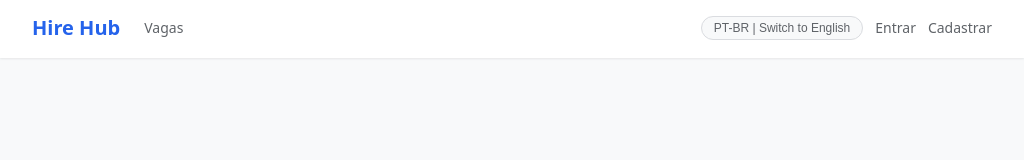
Test: Header › toggles language on button click
Click the button "PT-BR | Switch to English" at (782, 28), box [701,16,863,40]
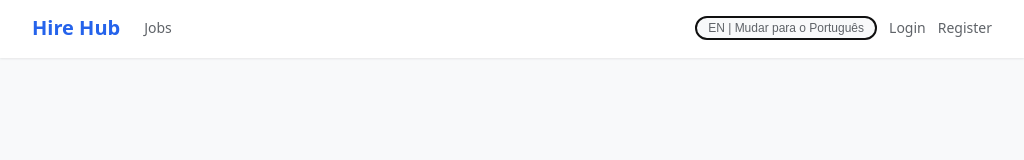
expect the button "EN | Mudar para o Português" is shown: met, box [695,16,877,40]
